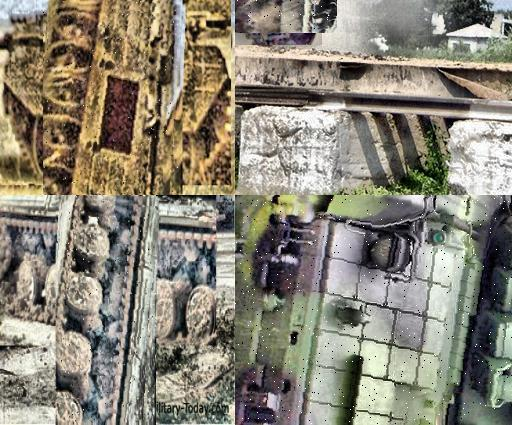tanks: (236, 196, 512, 425), (45, 3, 179, 196), (57, 198, 159, 425), (236, 1, 332, 34), (209, 196, 236, 228)
